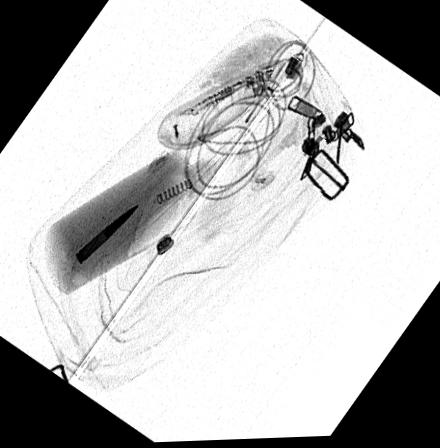Bullet: (73, 203, 142, 266)
